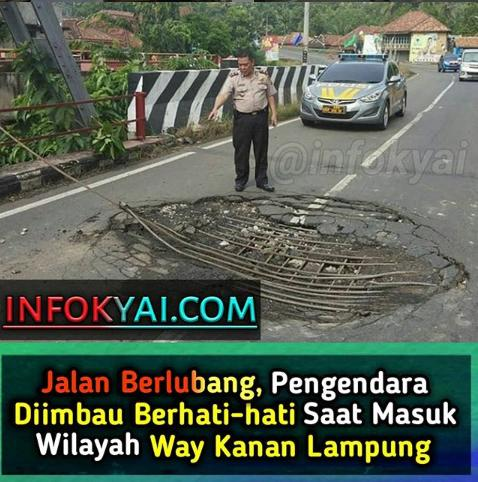Pothole: (55, 169, 457, 339)
